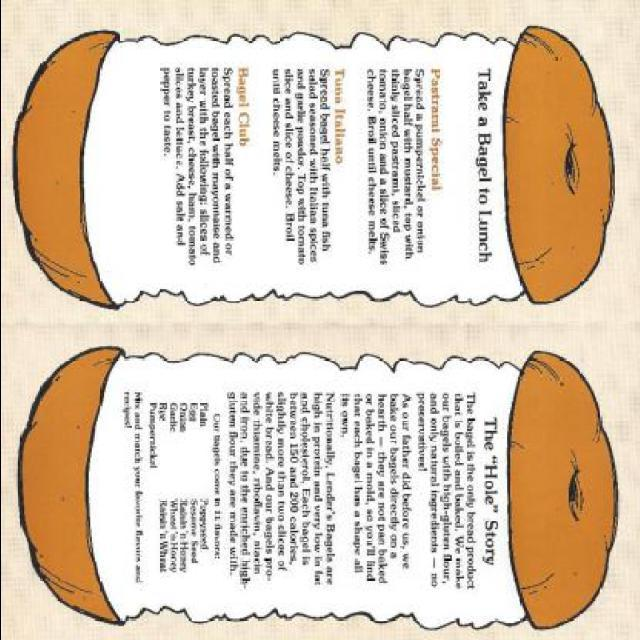Sandwich: (16, 342, 618, 632), (9, 25, 616, 312)
